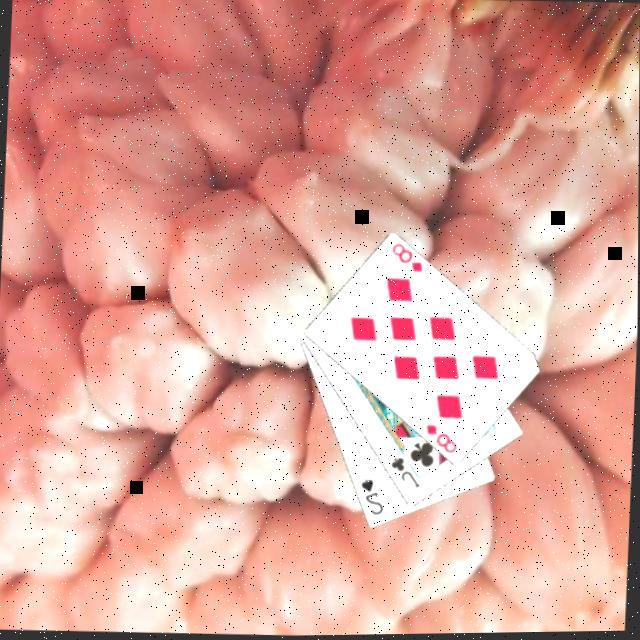2S: (354, 477, 384, 520)
8D: (420, 422, 459, 459), (385, 242, 424, 277)
JC: (385, 455, 422, 494)
